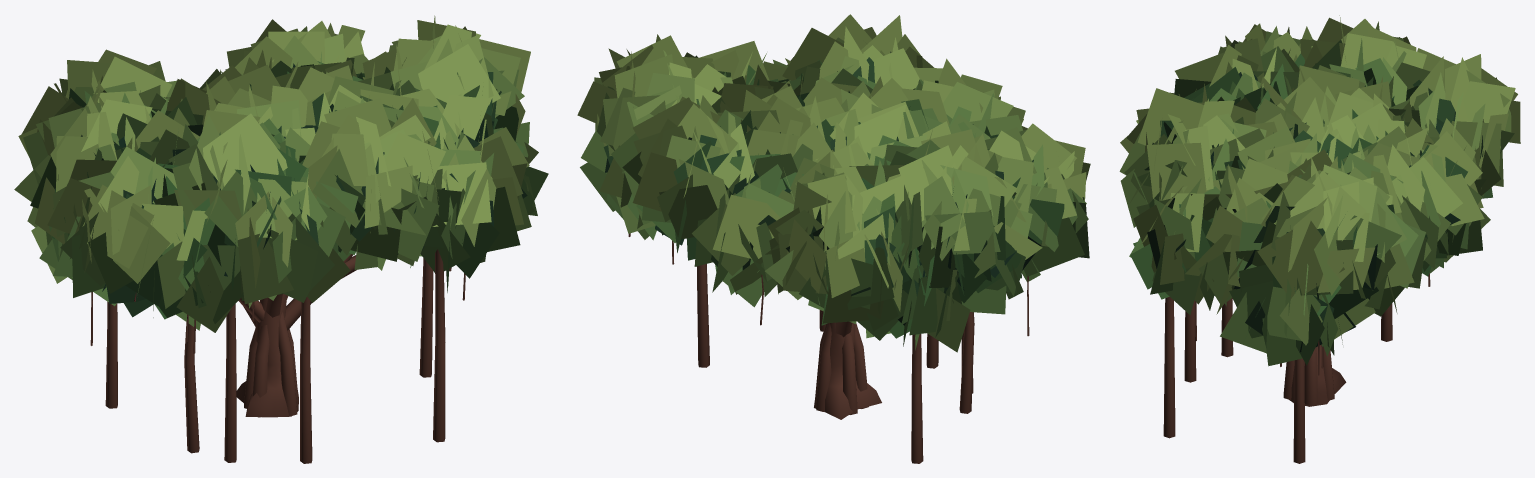
The model's file is Banyan.fbx.
The picture shows the model from 3 angles, left to right: view 1: azimuth 30°, elevation 25°; view 2: azimuth 150°, elevation 25°; view 3: azimuth 270°, elevation 25°; orthographic projection. The views are drawn at different scales.
Parts seen in each view (by area): view 1: Banyan; view 2: Banyan; view 3: Banyan.
Part boxes in pixels (<box>): Banyan: <box>14,15,548,463</box>; Banyan: <box>577,14,1090,463</box>; Banyan: <box>1119,15,1520,463</box>.
Bounding box in the file's own units: 14.39 × 9.63 × 10.88.
